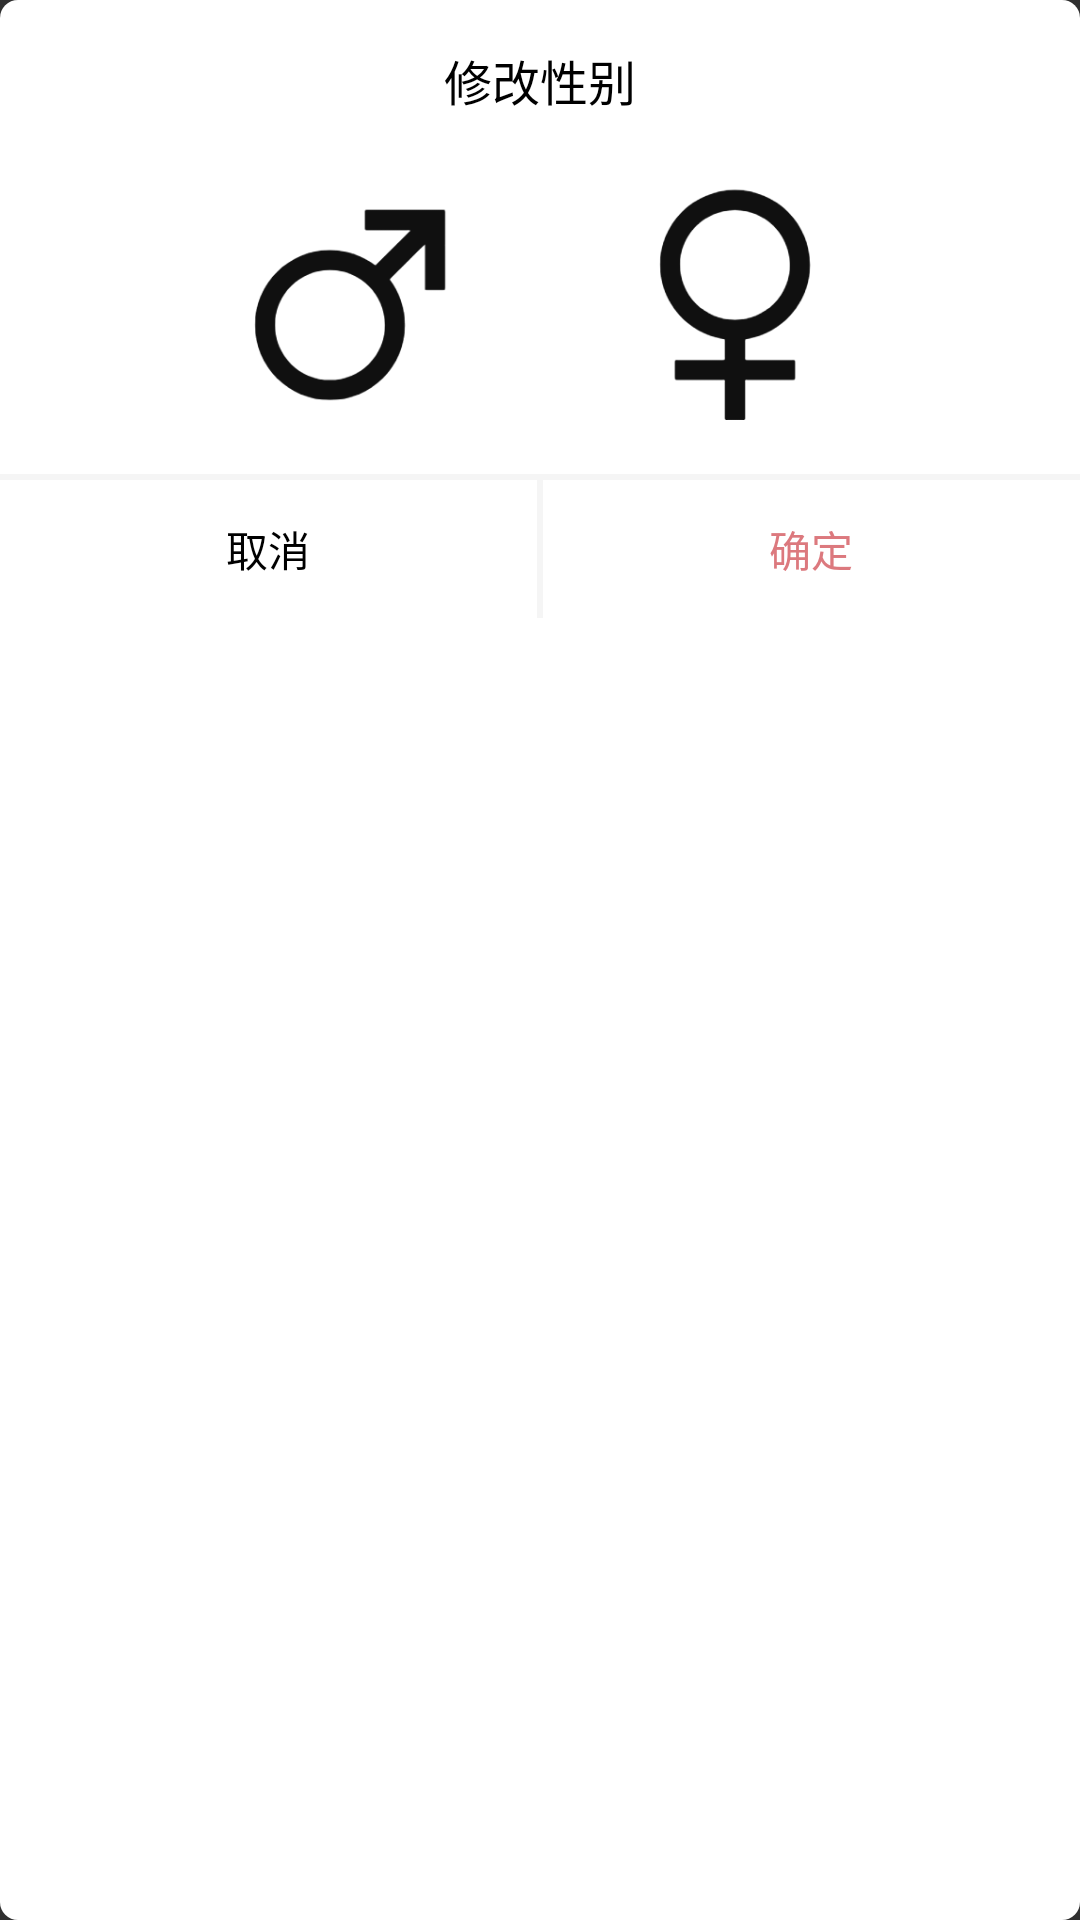

Icons on this 1080x1920 Android screen, each with its box as (x1, y1, x2, y2):
gender female: (660, 189, 811, 420)
gender male: (255, 209, 446, 401)
